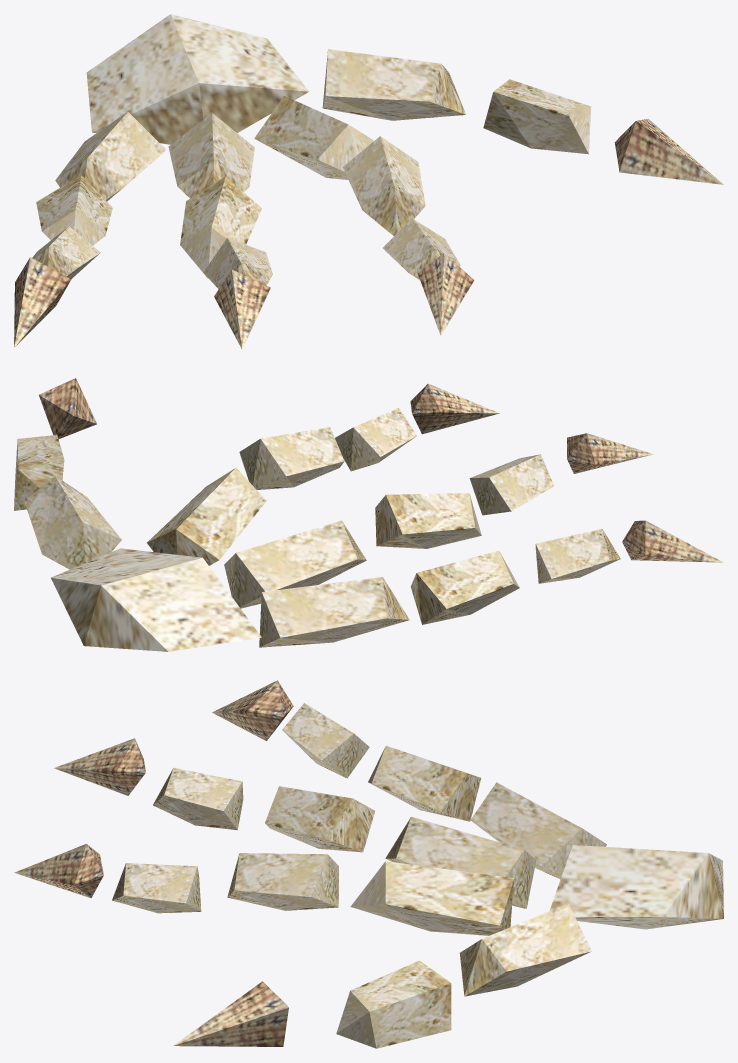
File: poi_tato_skel_krayt_foot_l1.fbx
3 renders of one model, top to bottom at view 1: azimuth 30°, elevation 25°; view 2: azimuth 150°, elevation 25°; view 3: azimuth 270°, elevation 25°, orthographic. The views are drawn at different scales.
Parts seen in each view (by area): view 1: mesh_node; view 2: mesh_node; view 3: mesh_node.
Boxes of the visible parts, <box> form: mesh_node: <box>14,14,723,349</box>; mesh_node: <box>14,378,723,651</box>; mesh_node: <box>14,680,723,1048</box>.
Size of the model in its own units: 2.96 by 0.3946 by 2.6.
Materials: 2 (2 with a texture image).
